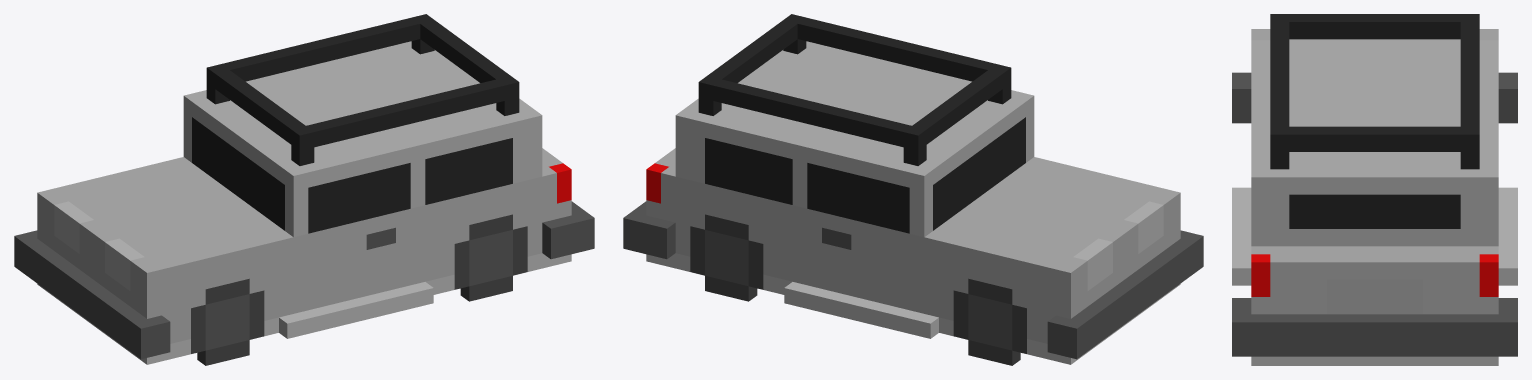
The model's file is voiture2white.obj.
3 renders of one model, left to right at view 1: azimuth 30°, elevation 25°; view 2: azimuth 150°, elevation 25°; view 3: azimuth 270°, elevation 25°, orthographic. The views are drawn at different scales.
Visible parts, largest first — view 1: voiture2white; view 2: voiture2white; view 3: voiture2white.
Part boxes in pixels (x1=…): voiture2white: x1=14, y1=14, x2=594, y2=365; voiture2white: x1=623, y1=14, x2=1203, y2=365; voiture2white: x1=1232, y1=14, x2=1517, y2=365.
Bounding box in the file's own units: 31 × 13 × 15.
Materials: 1 (1 with a texture image).
